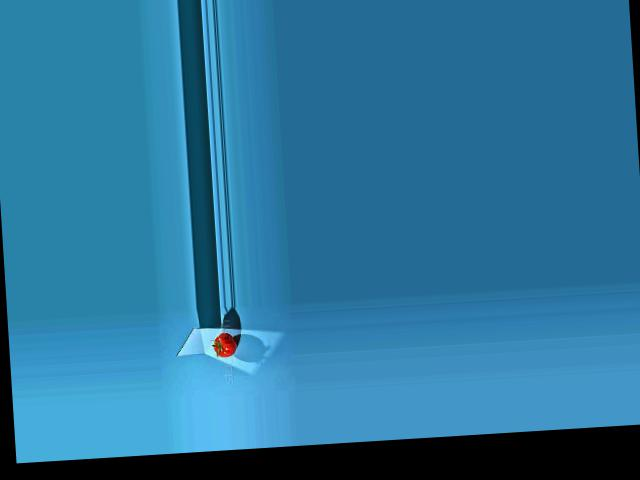tomato: (212, 331, 237, 357)
